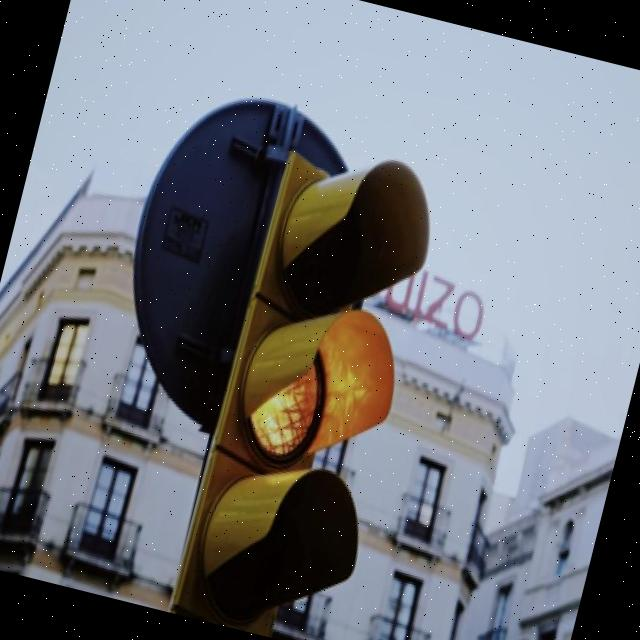yellow_light: (176, 134, 453, 640)
